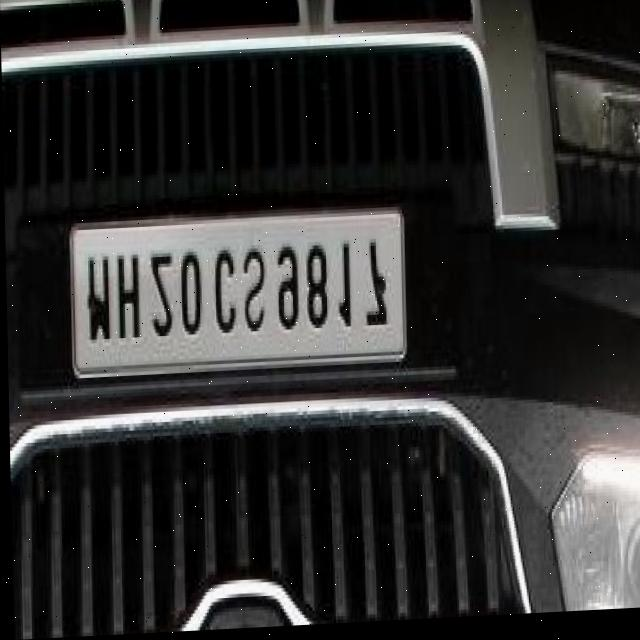plate: (65, 211, 407, 386)
